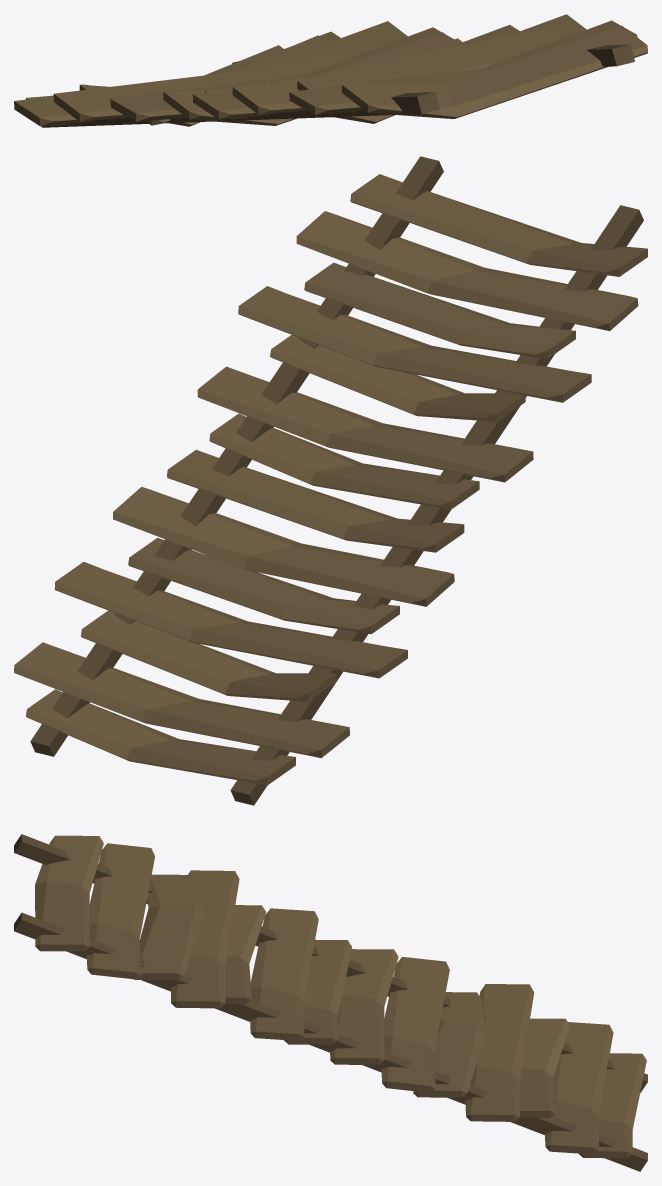
Rendered from SM_Bld_Rickety_Dock_Stairs_02.glb.
3 views of the same model, one above another, from view 1: azimuth 30°, elevation 25°; view 2: azimuth 150°, elevation 25°; view 3: azimuth 270°, elevation 25° (orthographic). The views are drawn at different scales.
Parts seen in each view (by area): view 1: SM_Bld_Rickety_Dock_Stairs_02; view 2: SM_Bld_Rickety_Dock_Stairs_02; view 3: SM_Bld_Rickety_Dock_Stairs_02.
Boxes of the visible parts, bbox=[...] form: SM_Bld_Rickety_Dock_Stairs_02: bbox=[14, 14, 647, 127]; SM_Bld_Rickety_Dock_Stairs_02: bbox=[14, 156, 647, 805]; SM_Bld_Rickety_Dock_Stairs_02: bbox=[14, 834, 647, 1171].
Bounding box in the file's own units: 0.0168 × 0.015 × 0.0343.
